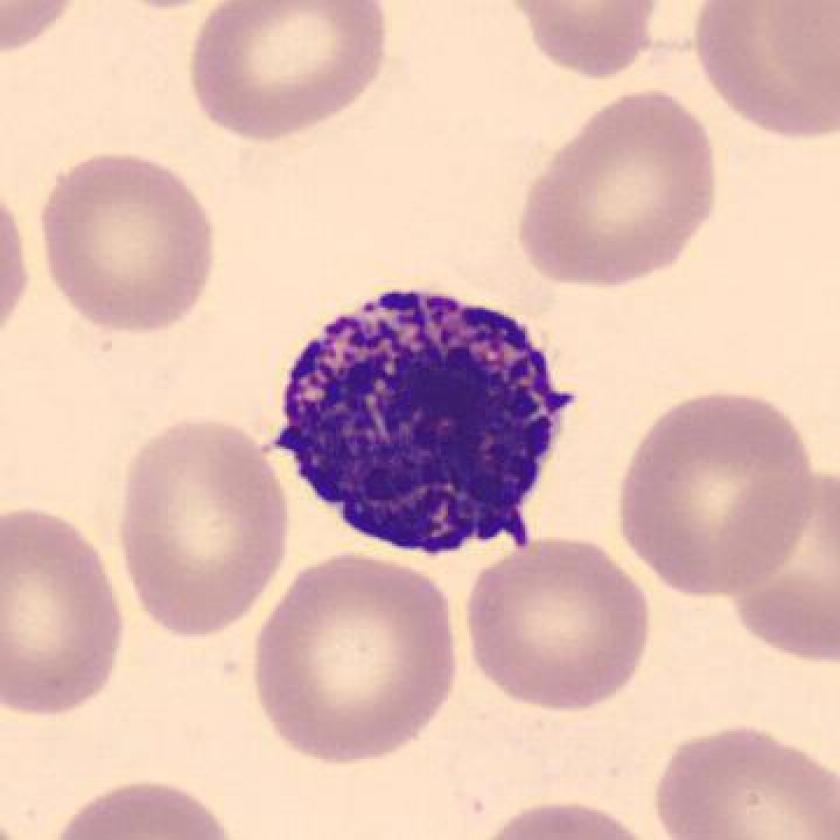basophil: (260, 281, 580, 566)
